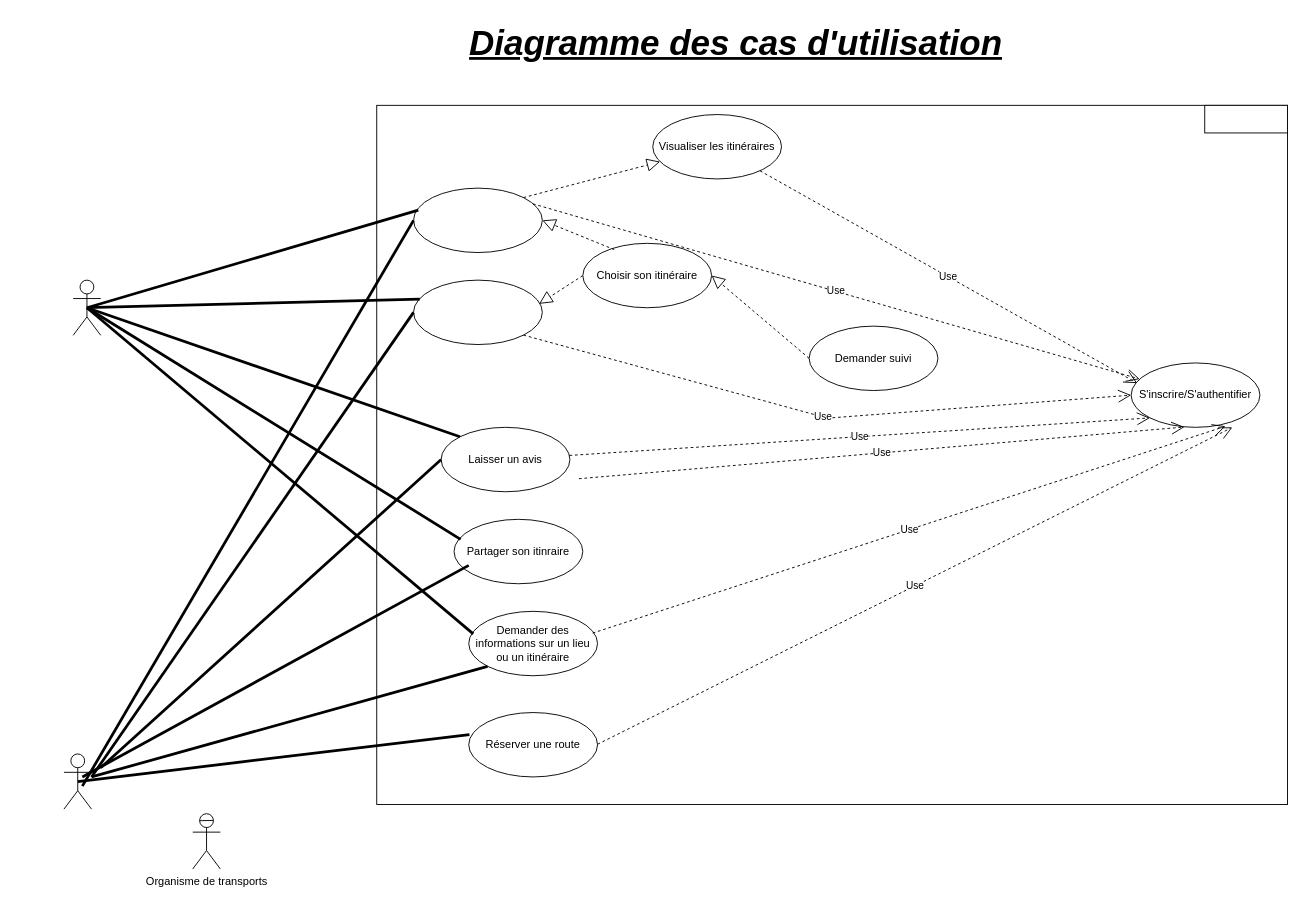
This 1304x903 diagram has some shape labels left out. Here are the shapes that lost their labels. From the top down, the centre of each, then its label:
(1246,118): Système
(477,220): Chercher tous les itinéraires suivant un critère
(86,307): Usager de la route/Chauffeur (Voyageur)
(477,312): Chercher le chemin optimal
(77,781): Gouvernement
